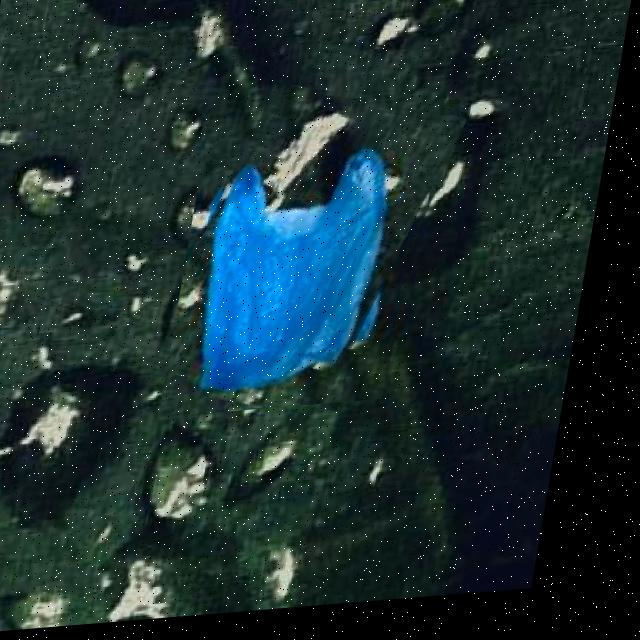litter: (173, 85, 460, 421)
